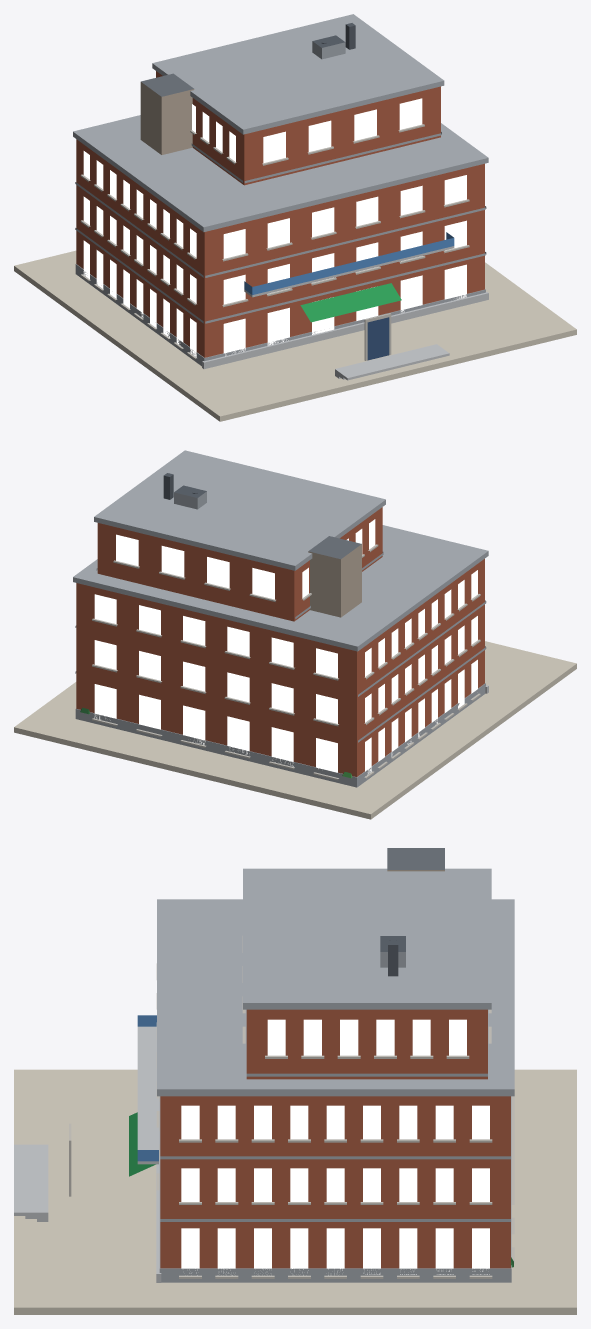
3 renders of one model, top to bottom at view 1: azimuth 30°, elevation 25°; view 2: azimuth 150°, elevation 25°; view 3: azimuth 270°, elevation 25°, orthographic. The views are drawn at different scales.
Visible parts, largest first — view 1: b09_x2; view 2: b09_x2; view 3: b09_x2.
Part boxes in pixels (box(x1,y1,x2,y2)): b09_x2: box(14, 14, 576, 421); b09_x2: box(14, 450, 576, 819); b09_x2: box(14, 848, 576, 1314).
Size of the model in its own units: 1.96 by 1.21 by 1.96.
